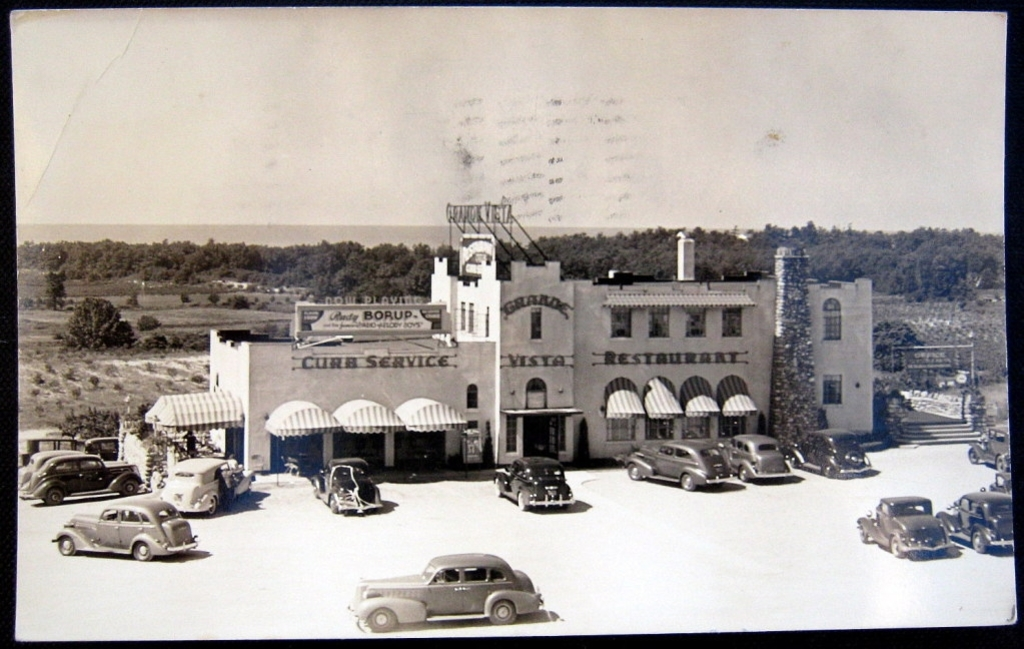Car: (345, 547, 538, 632), (47, 498, 199, 557), (935, 482, 1022, 559), (623, 436, 733, 494), (855, 495, 956, 552), (163, 458, 260, 517), (14, 454, 142, 491), (490, 452, 573, 509), (305, 456, 385, 509), (791, 430, 872, 479), (721, 434, 795, 483), (15, 446, 65, 483), (969, 424, 1008, 470), (991, 468, 1008, 494)
